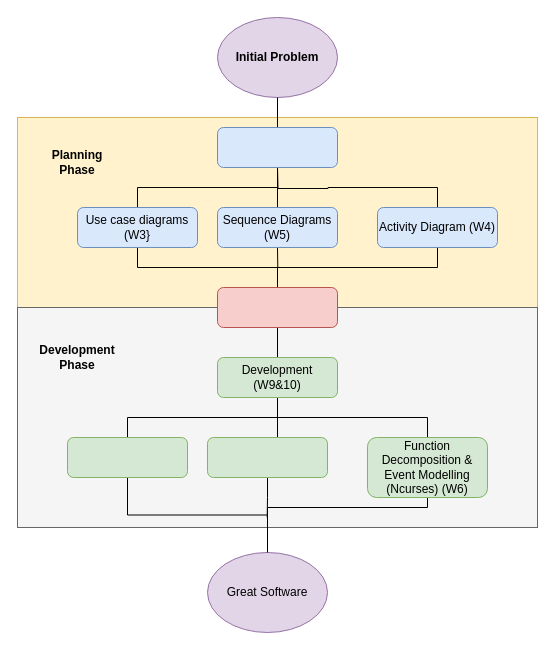
Image size: 555x650. Some labels were removed from this diagram. The box of each missing label's shape, as (x1, y1, x2, y2) in pixels:
Class Diagram (W2): (216, 286, 338, 328)
Data structures and Algorithms (W7): (206, 436, 328, 478)
Problem analysis tools (W1): (216, 126, 338, 168)
Test Driven Dev (W8): (66, 436, 188, 478)
